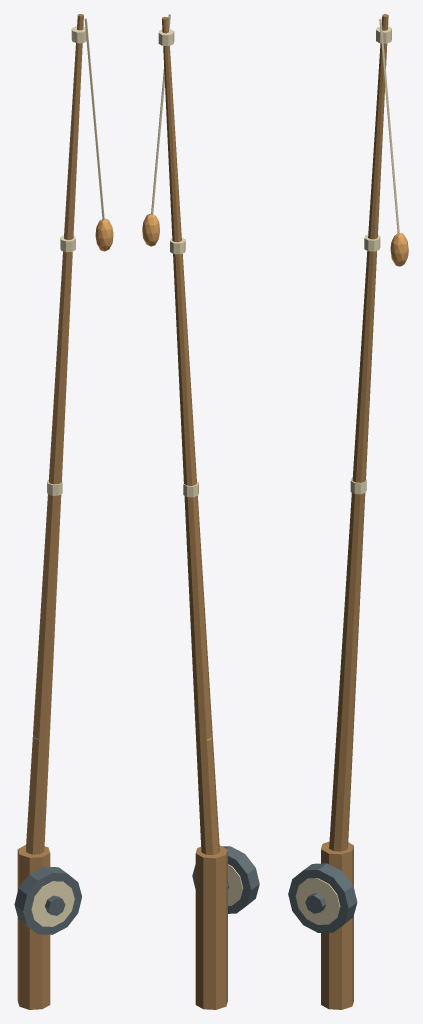
Rendered from resource_fishing_rod.glb.
3 renders of one model, left to right at view 1: azimuth 30°, elevation 25°; view 2: azimuth 150°, elevation 25°; view 3: azimuth 330°, elevation 25°, orthographic. The views are drawn at different scales.
Visible parts, largest first — view 1: Bamboo pole, Cork grip, Reel spool, Reel line, Line, Small red float, Reel axle; view 2: Bamboo pole, Cork grip, Reel spool, Small red float, Reel line, Line; view 3: Bamboo pole, Cork grip, Reel spool, Reel line, Line, Small red float, Reel axle.
Boxes of the visible parts, box(x1,y1,x2,y2) form: Bamboo pole: box(26, 14, 83, 854); Cork grip: box(17, 845, 50, 1009); Reel spool: box(14, 866, 81, 934); Reel line: box(31, 881, 74, 926); Line: box(84, 18, 104, 220); Small red float: box(95, 218, 113, 251); Reel axle: box(45, 895, 65, 915); Bamboo pole: box(162, 16, 219, 854); Cork grip: box(195, 845, 227, 1009); Reel spool: box(192, 846, 259, 913); Small red float: box(142, 213, 159, 246); Reel line: box(228, 864, 243, 905); Line: box(151, 14, 170, 215); Bamboo pole: box(329, 14, 388, 851); Cork grip: box(321, 841, 353, 1009); Reel spool: box(288, 863, 357, 932); Reel line: box(295, 878, 340, 924); Line: box(379, 18, 399, 233); Small red float: box(390, 233, 408, 266); Reel axle: box(305, 893, 326, 913).
Bounding box in the file's own units: 0.2192 × 1.99 × 0.116.
